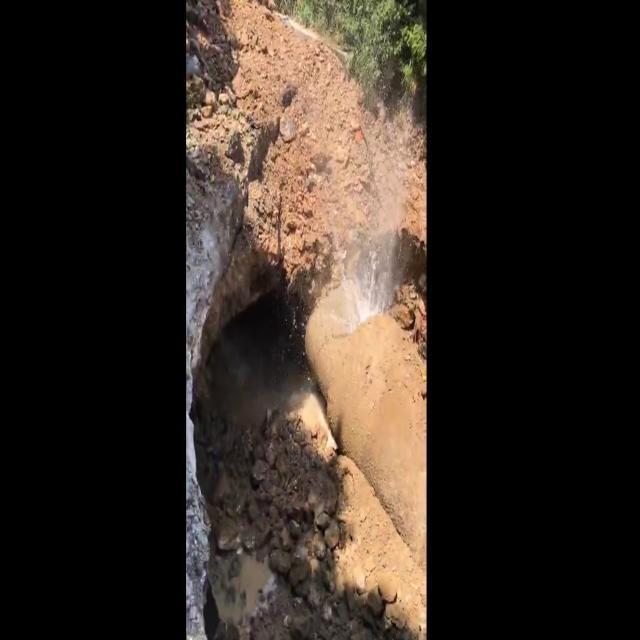pipe burst: (330, 215, 402, 339)
water accumulation: (216, 336, 340, 461), (209, 540, 273, 619)
